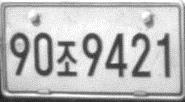0: (33, 32, 54, 76)
1: (157, 32, 172, 78)
2: (130, 32, 152, 78)
4: (104, 32, 127, 77)
9: (81, 32, 103, 76), (9, 32, 30, 76)
조: (56, 39, 78, 77)
